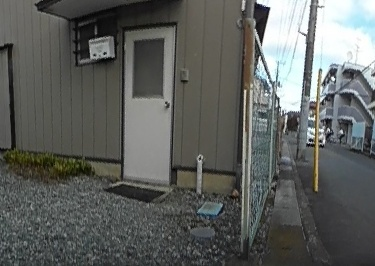person: (337, 125, 346, 143), (324, 124, 332, 140)
